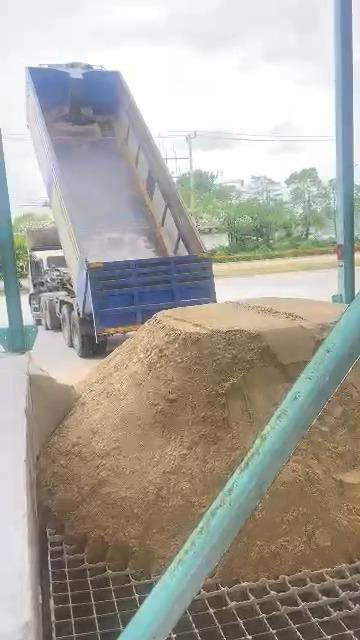sand: (41, 300, 341, 574), (218, 365, 360, 581), (26, 361, 76, 464)
